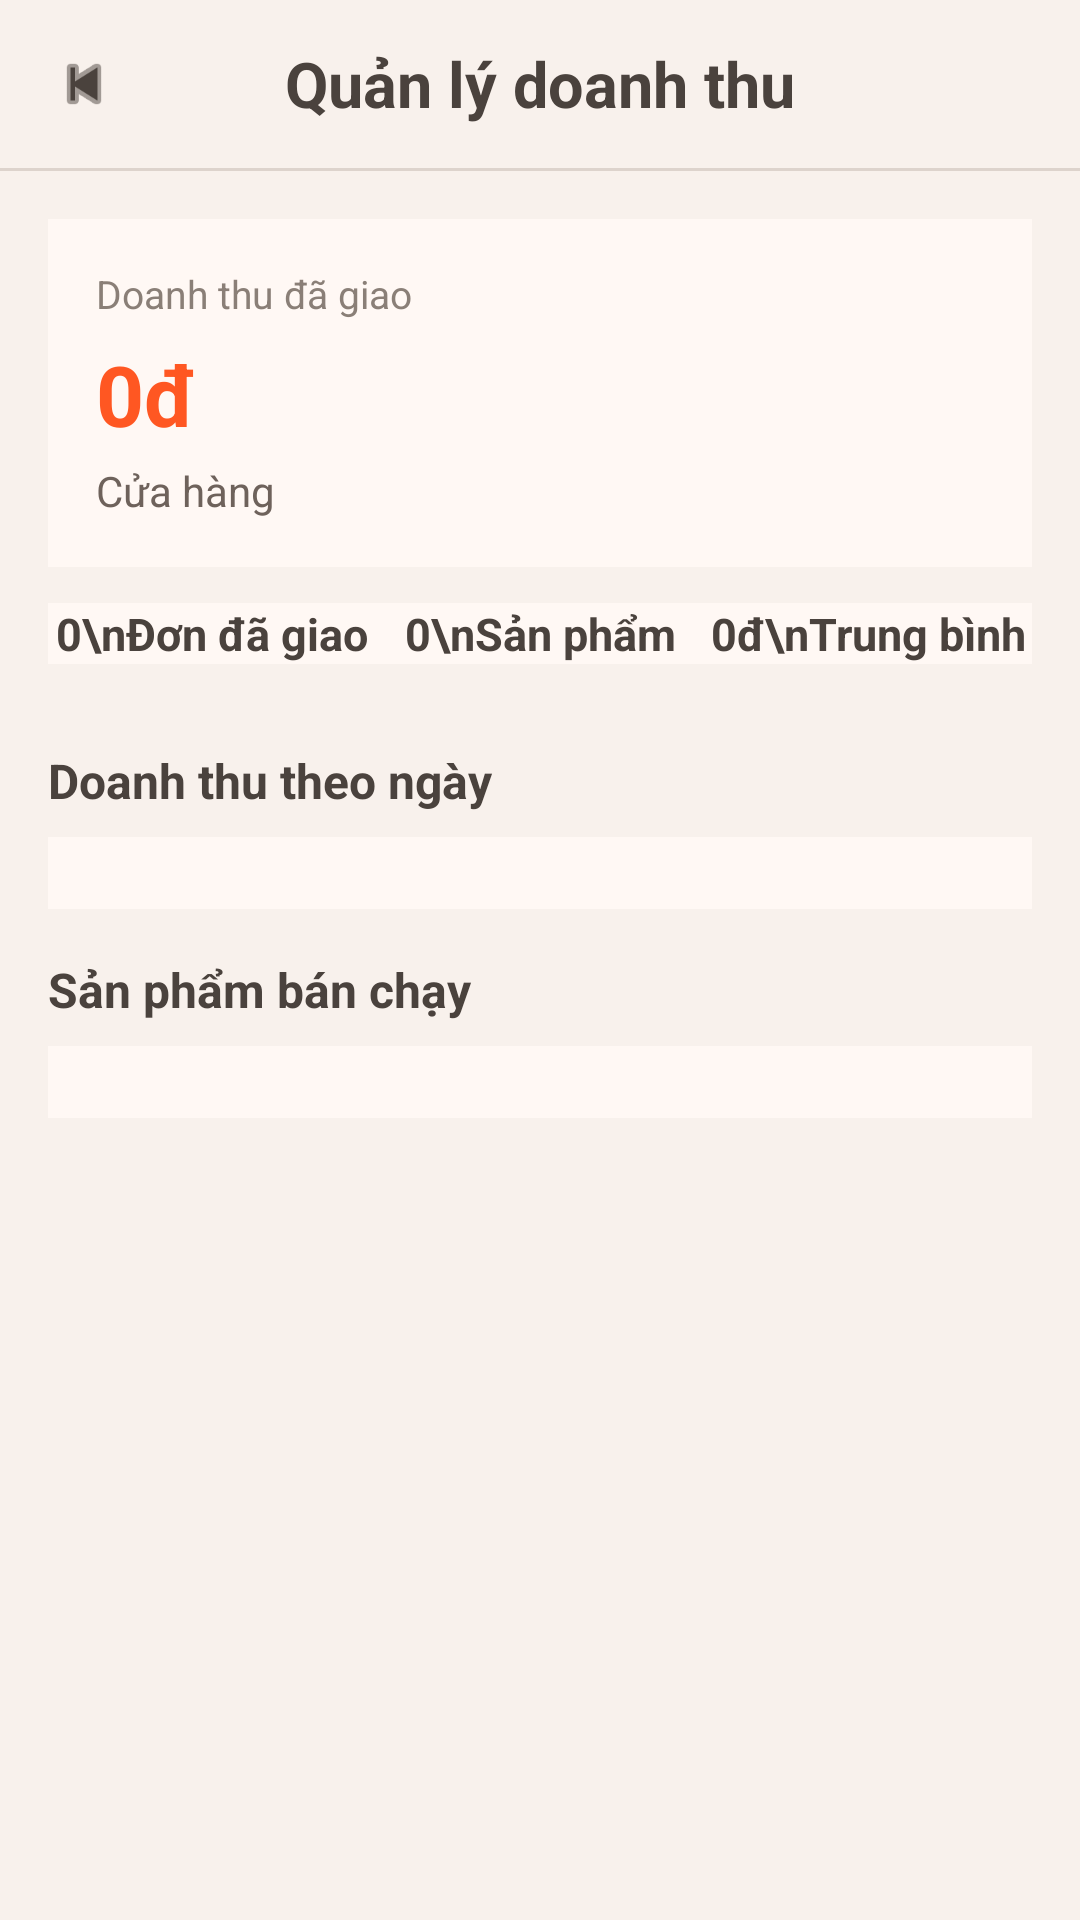

Named icons in this screenshot (1080*1920) and their bounding boxes, (x1, y1, x2, y2):
Quay lai: (67, 64, 101, 104)
